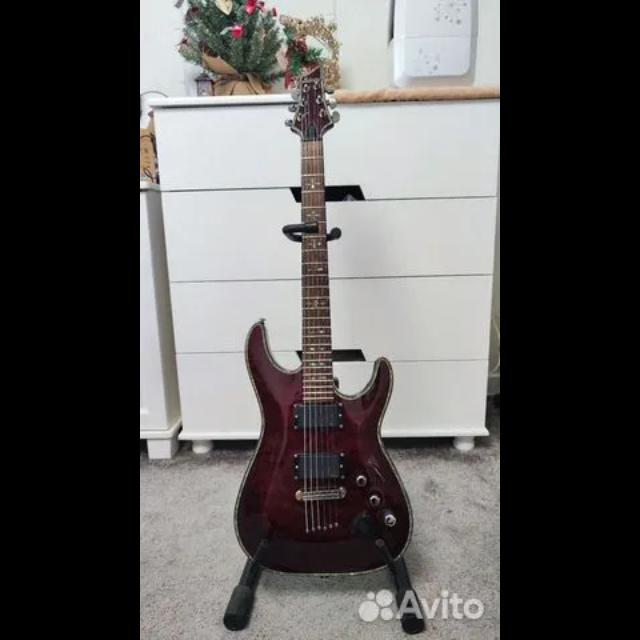Electric-Guitar: (235, 68, 412, 572)
